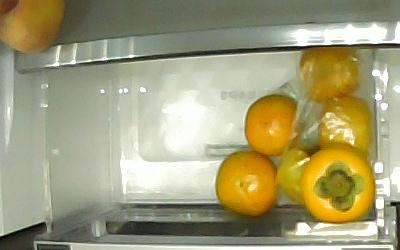persimmon: (299, 142, 375, 224), (215, 149, 278, 216), (243, 92, 305, 156)
persimmon_vinyl: (316, 96, 373, 158), (298, 48, 362, 103), (275, 141, 322, 205)
